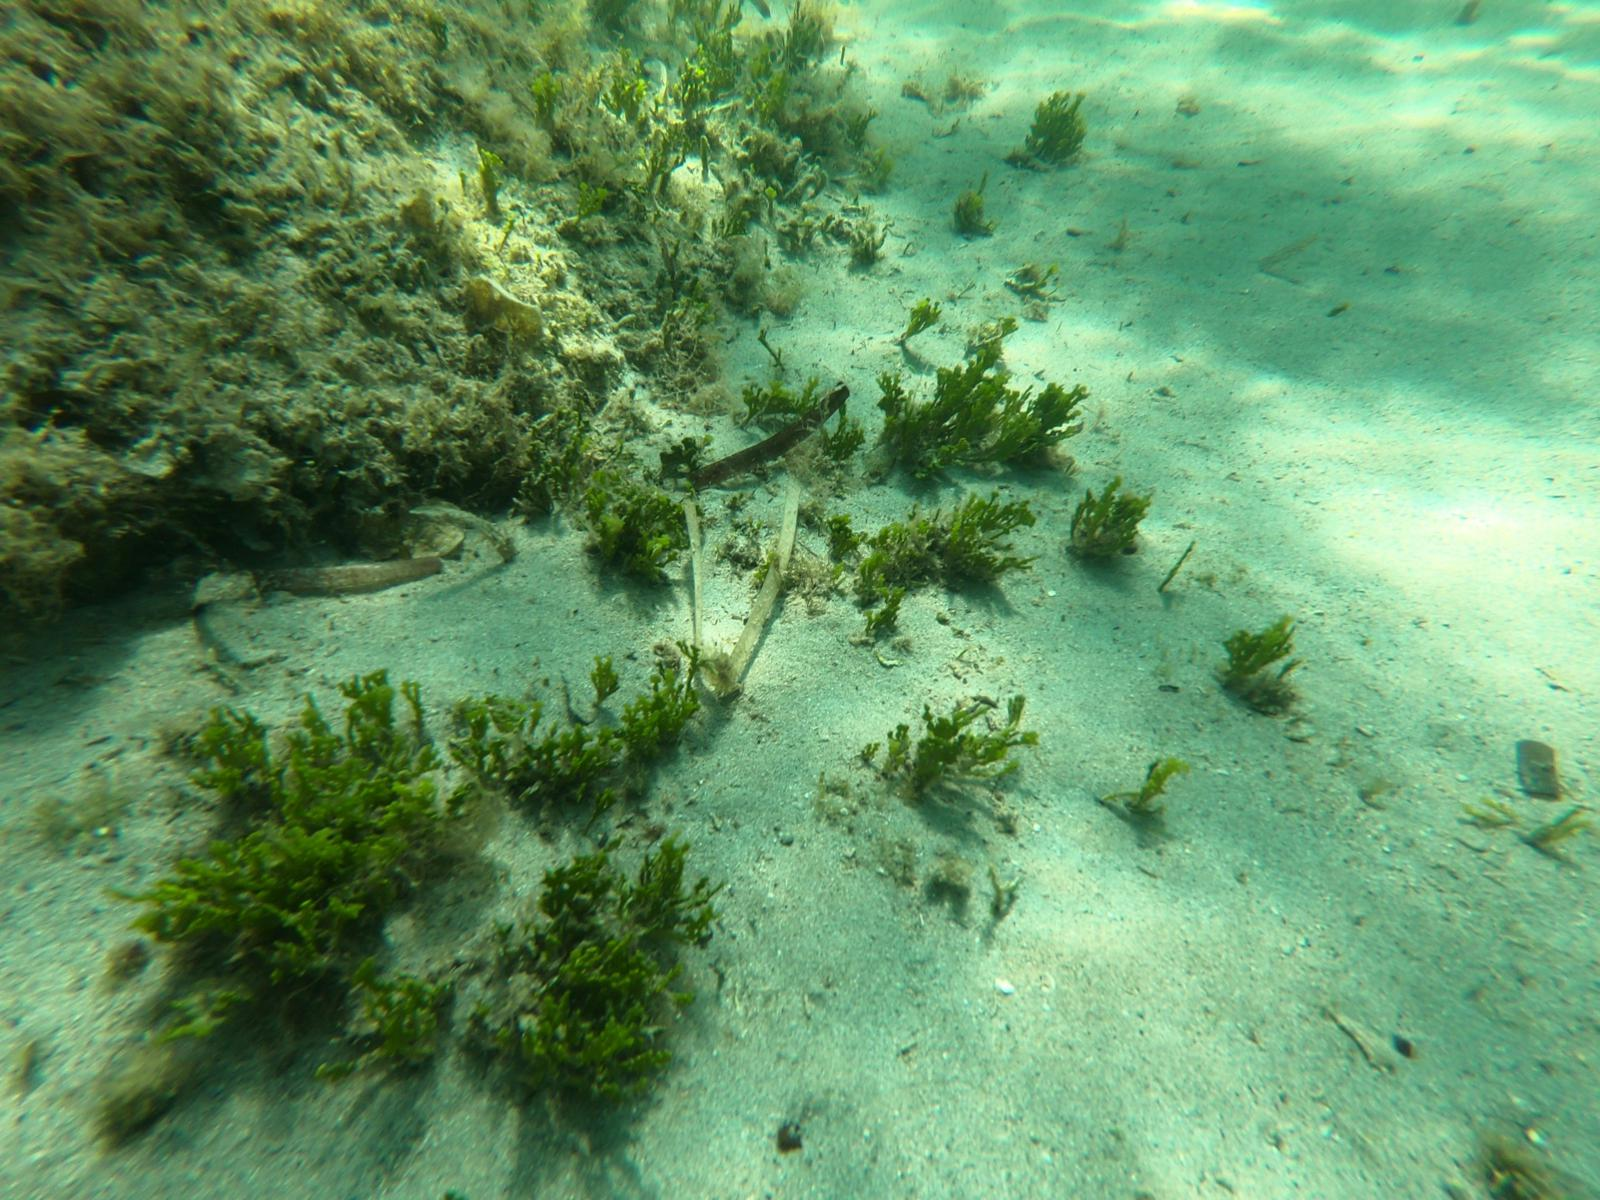halimeda: (136, 766, 430, 961), (504, 839, 702, 1095), (878, 350, 1085, 471), (452, 700, 620, 808), (878, 702, 1013, 798), (876, 503, 1036, 584), (339, 976, 459, 1068), (590, 497, 687, 579), (630, 661, 700, 753), (520, 434, 597, 513), (1068, 482, 1151, 555), (341, 672, 421, 747), (163, 979, 266, 1037), (675, 33, 741, 116), (1223, 615, 1296, 686), (1026, 91, 1090, 169), (207, 708, 265, 793), (290, 698, 341, 765), (1125, 754, 1188, 808), (750, 54, 791, 121), (643, 129, 685, 193), (792, 6, 826, 71), (472, 154, 506, 217), (900, 294, 942, 343), (824, 512, 859, 567), (862, 591, 903, 637), (603, 74, 645, 120), (590, 655, 624, 707), (533, 76, 563, 132), (737, 378, 771, 424), (950, 190, 984, 232), (578, 183, 605, 233), (847, 229, 889, 260)
